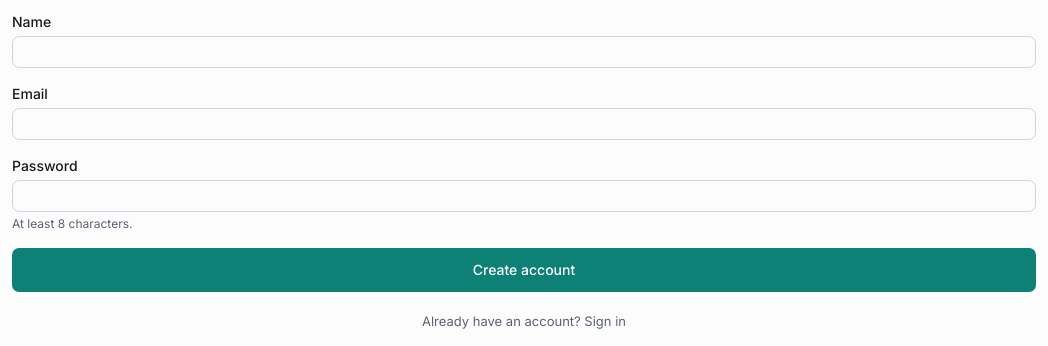
Test case: EmailPasswordForm › shows the verify state after sign up
Type "Ada Lovelace" into the field labelled "Name" at x=524, y=52, box [12,36,1036,68]
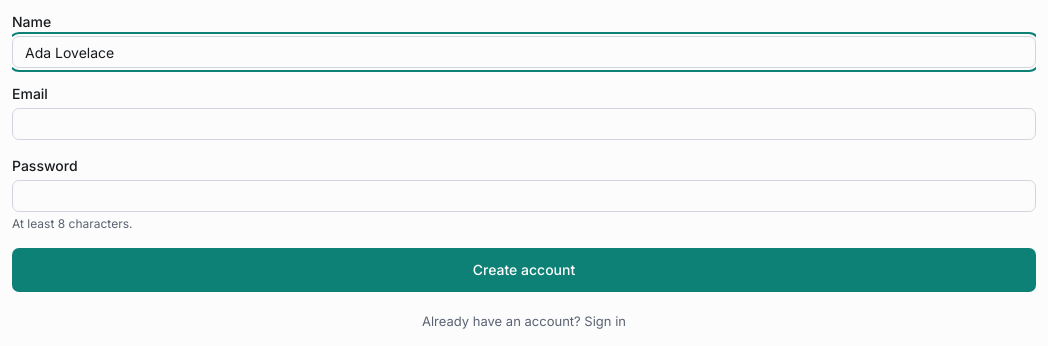
Type "ada@example.com" into the field labelled "Email" at x=524, y=124, box [12,108,1036,140]
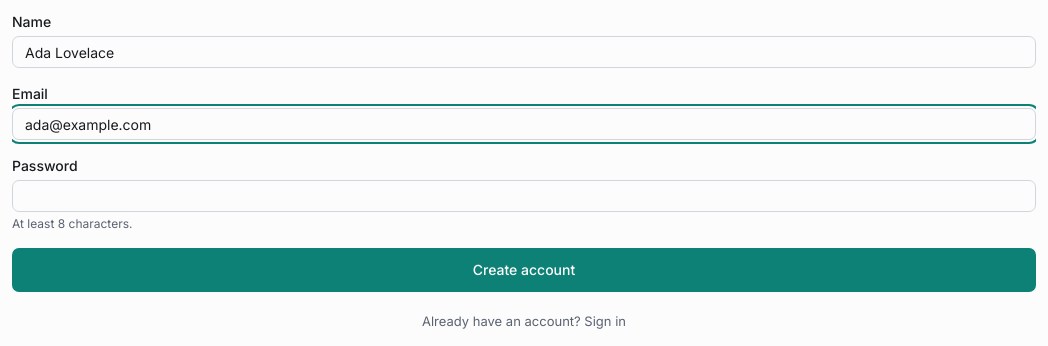
Type "correct-horse" into the password field labelled "Password" at x=524, y=196, box [12,180,1036,212]
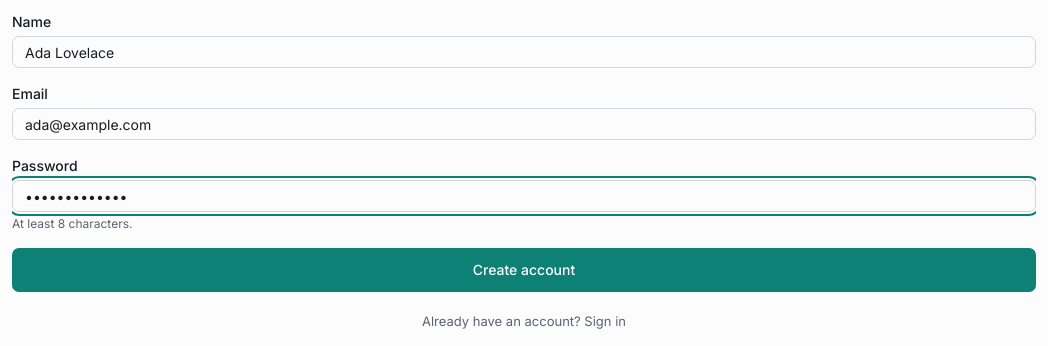
Click the button "Create account" at x=524, y=270, box [12,248,1036,292]
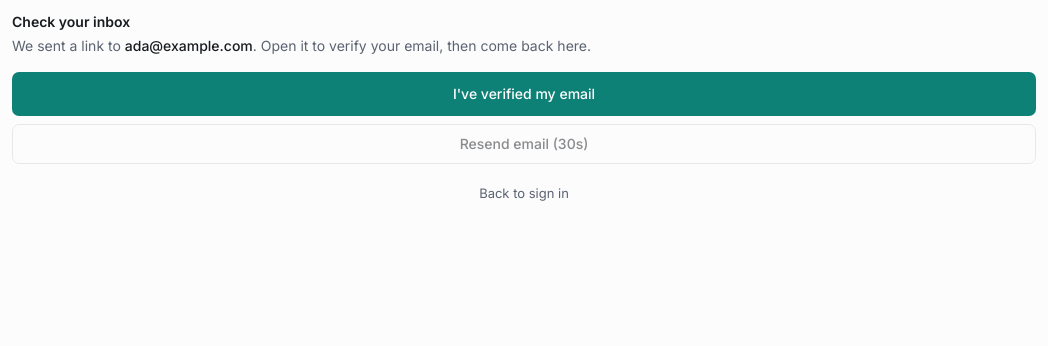
Now the heading "Check your inbox" is shown, box [12,13,130,30]
Now the text "ada@example.com" is shown, box [125,37,253,54]
Now the button "Resend email (30s)" is disabled, box [12,124,1036,164]
